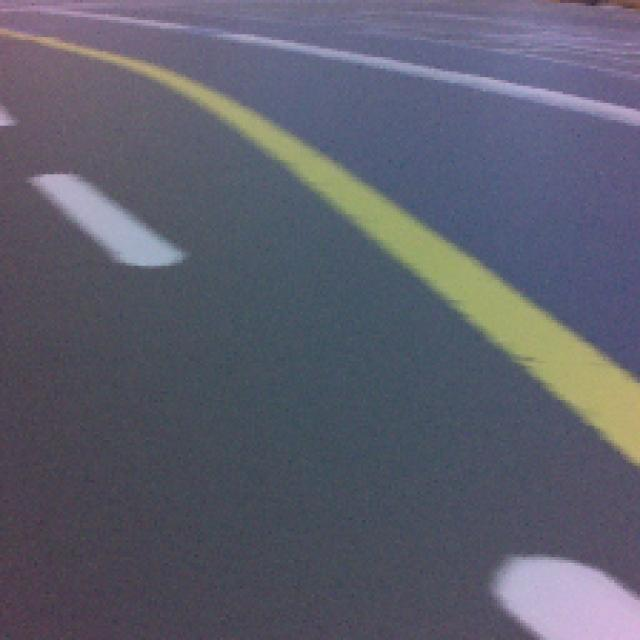Pedestrian crosswalk: (36, 171, 188, 265), (498, 558, 640, 640)
